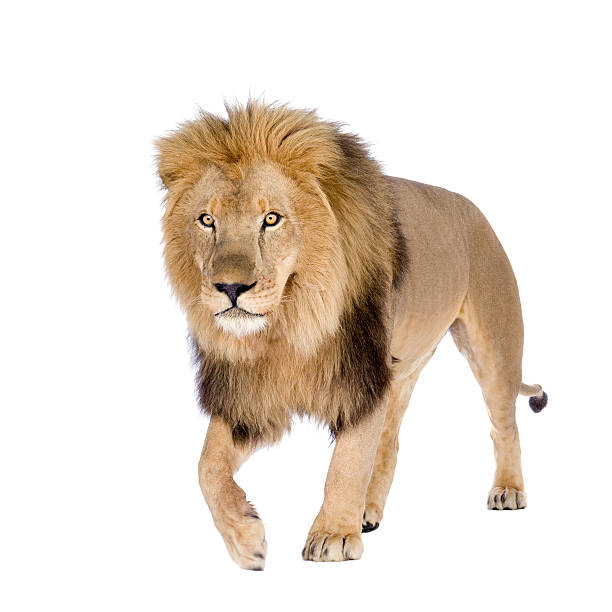lion: (111, 94, 415, 458)
